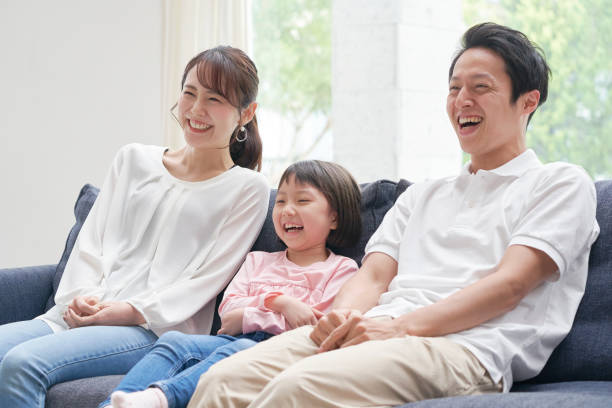without mask: (443, 43, 532, 159), (173, 70, 243, 157), (266, 167, 336, 254)
